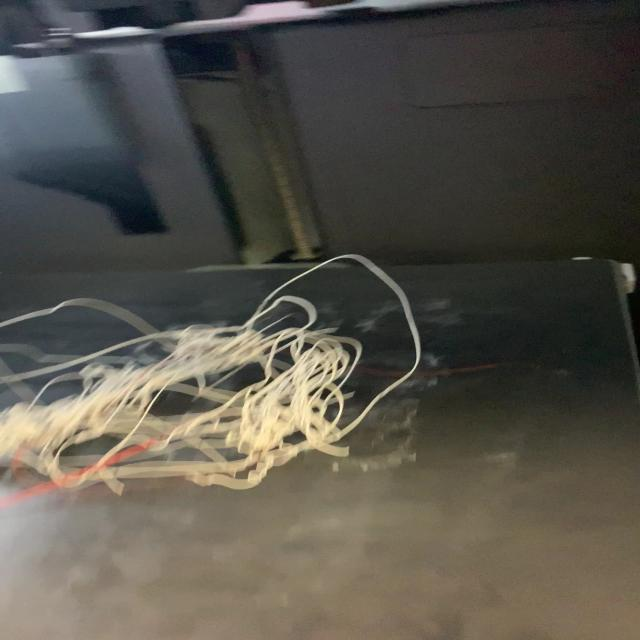spaghetti: (3, 253, 426, 507)
